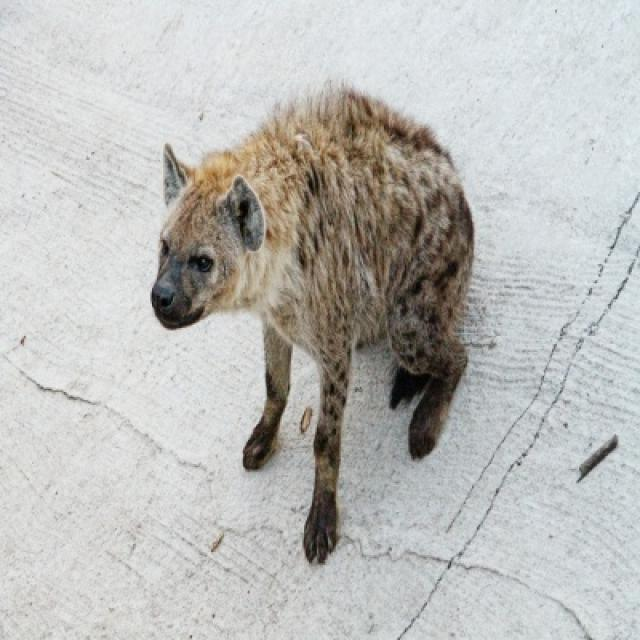hyena: (149, 90, 477, 568)
